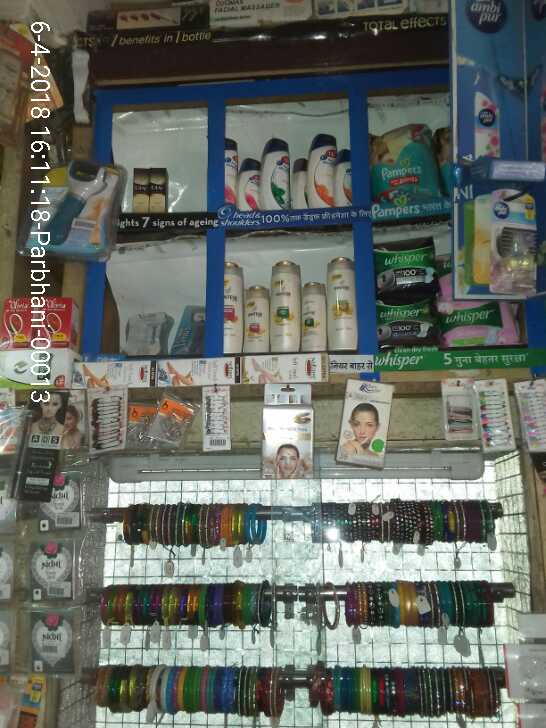venus: (127, 304, 167, 357), (172, 307, 208, 354)
